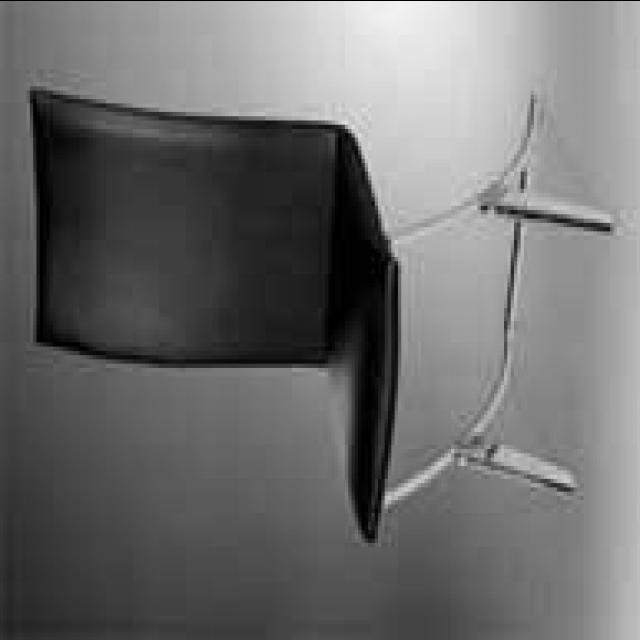chair: (30, 78, 612, 544)
